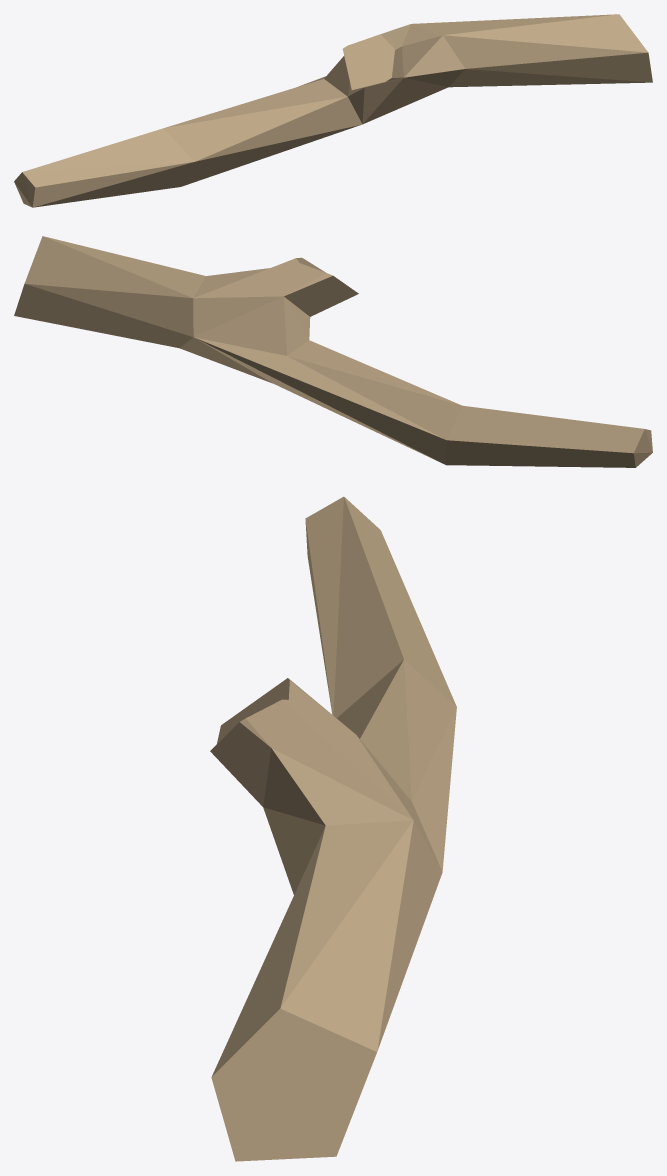
Rendered from Cave-Branch.fbx.
3 views of the same model, one above another, from view 1: azimuth 30°, elevation 25°; view 2: azimuth 150°, elevation 25°; view 3: azimuth 270°, elevation 25° (orthographic). The views are drawn at different scales.
Visible parts, largest first — view 1: Cave-Branch, Cave-Branch.001; view 2: Cave-Branch, Cave-Branch.001; view 3: Cave-Branch, Cave-Branch.001.
Part boxes in pixels (left/top/right/bottom): Cave-Branch: left=324, top=14, right=652, bottom=124; Cave-Branch.001: left=14, top=76, right=362, bottom=207; Cave-Branch: left=14, top=236, right=358, bottom=383; Cave-Branch.001: left=194, top=337, right=652, bottom=467; Cave-Branch: left=210, top=678, right=442, bottom=1161; Cave-Branch.001: left=305, top=496, right=456, bottom=871.
Size of the model in its own units: 3.2 by 0.6429 by 0.5659.
